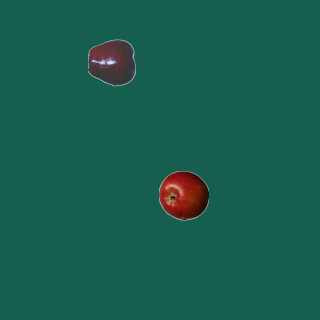Apple Braeburn: (158, 170, 208, 220)
Apple Red Delicious: (87, 37, 137, 87)
